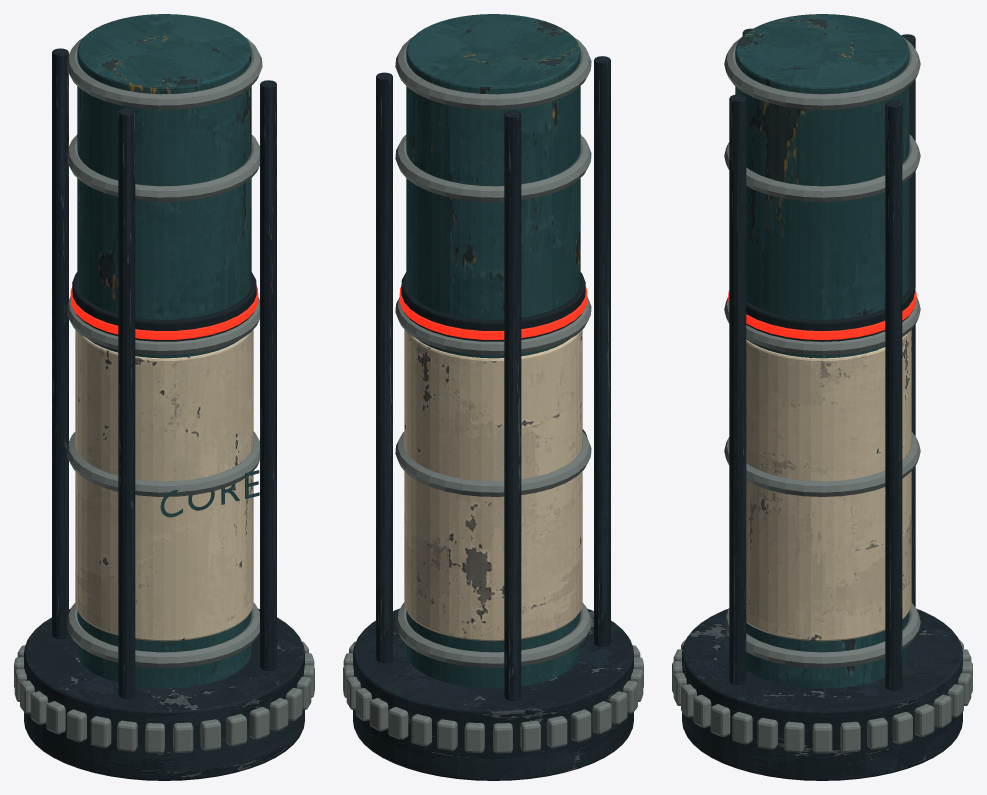
Rendered from core-spindle.glb.
The picture shows the model from 3 angles, left to right: view 1: azimuth 30°, elevation 25°; view 2: azimuth 150°, elevation 25°; view 3: azimuth 270°, elevation 25°; orthographic projection.
Visible parts, largest first — view 1: core-spindle__core-spindle__steel, core-spindle__core-spindle__petrol, core-spindle__core-spindle__ivory, core-spindle__core-spindle__hardware, core-spindle__core-spindle__rubber, core-spindle__core-spindle__danger-red; view 2: core-spindle__core-spindle__steel, core-spindle__core-spindle__petrol, core-spindle__core-spindle__ivory, core-spindle__core-spindle__hardware, core-spindle__core-spindle__rubber, core-spindle__core-spindle__danger-red; view 3: core-spindle__core-spindle__steel, core-spindle__core-spindle__petrol, core-spindle__core-spindle__ivory, core-spindle__core-spindle__hardware, core-spindle__core-spindle__rubber, core-spindle__core-spindle__danger-red.
Part boxes in pixels (<box>): core-spindle__core-spindle__steel: <box>24,48,304,780</box>; core-spindle__core-spindle__petrol: <box>77,14,259,688</box>; core-spindle__core-spindle__ivory: <box>75,329,253,641</box>; core-spindle__core-spindle__hardware: <box>14,37,314,753</box>; core-spindle__core-spindle__rubber: <box>72,272,256,341</box>; core-spindle__core-spindle__danger-red: <box>70,286,258,339</box>; core-spindle__core-spindle__steel: <box>353,56,633,780</box>; core-spindle__core-spindle__petrol: <box>406,14,587,688</box>; core-spindle__core-spindle__ivory: <box>404,329,582,641</box>; core-spindle__core-spindle__hardware: <box>343,37,643,753</box>; core-spindle__core-spindle__rubber: <box>401,272,585,341</box>; core-spindle__core-spindle__danger-red: <box>399,286,587,339</box>; core-spindle__core-spindle__steel: <box>682,28,962,780</box>; core-spindle__core-spindle__petrol: <box>735,14,909,688</box>; core-spindle__core-spindle__ivory: <box>746,330,911,641</box>; core-spindle__core-spindle__hardware: <box>672,36,972,753</box>; core-spindle__core-spindle__rubber: <box>746,272,914,341</box>; core-spindle__core-spindle__danger-red: <box>728,287,916,340</box>.
Bounding box in the file's own units: 2.31 × 5.7 × 2.31.
Materials: 6 (3 with a texture image).
